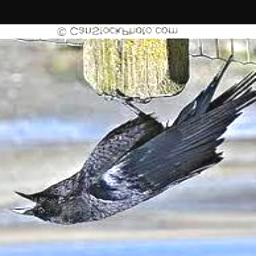Crow: (9, 54, 256, 226)
